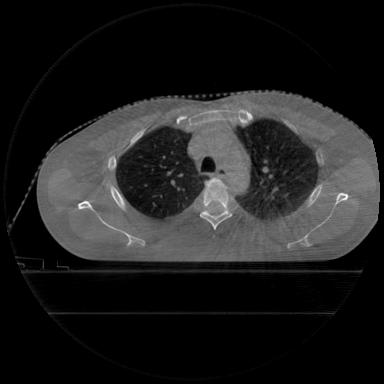body: (37, 91, 379, 261)
cord: (200, 178, 232, 230)
paru kanan: (116, 127, 204, 219)
paru kiri: (236, 118, 319, 219)
